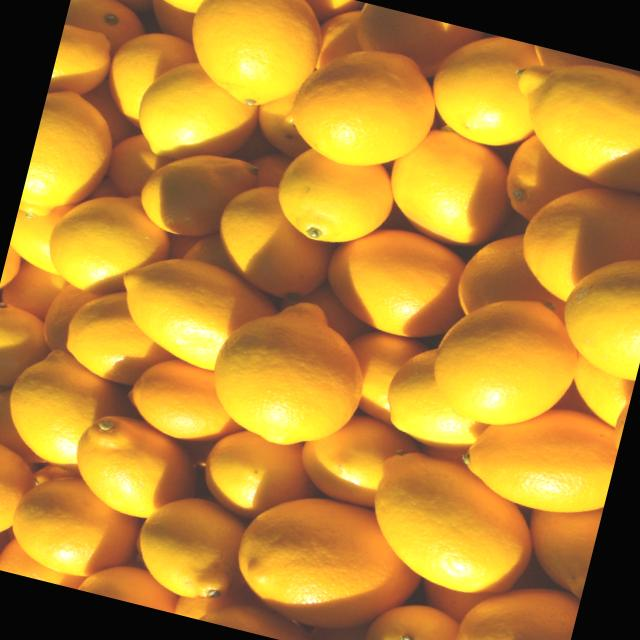lemon: (199, 282, 378, 459), (358, 446, 546, 606), (425, 288, 588, 440), (455, 386, 624, 526), (509, 171, 640, 322), (62, 406, 208, 528), (3, 464, 148, 586), (40, 182, 178, 304), (181, 0, 328, 114), (442, 569, 581, 640)
